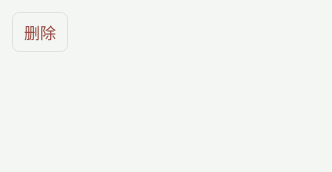
Test: permanent novel deletion › shows elapsed read-only progress and lets the author cancel the preview
What coordinates should you click on to do the following:
click the button with aria-label "永久删除小说 测试小说"
I would click on:
 (40, 32)
Its box is [12,12,68,52].
Wait 3000 ms
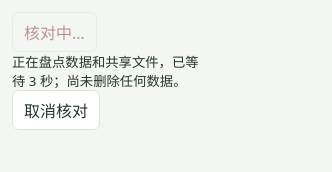
Check: the message shows "已等待 3 秒；尚未删除任何数据", box [12,52,202,90]
What coordinates should you click on to do the following:
click the button "取消核对"
I would click on:
 (56, 110)
Its box is [12,90,100,130].
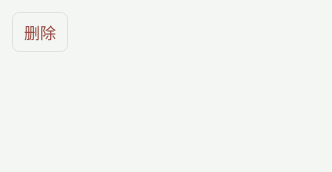
Check: the button with aria-label "永久删除小说 测试小说" is enabled, box [12,12,68,52]
